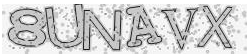8: (7, 7, 48, 48)
A: (124, 4, 164, 49)
N: (83, 8, 122, 50)
U: (45, 4, 84, 49)
V: (160, 7, 199, 50)
X: (197, 5, 234, 51)
